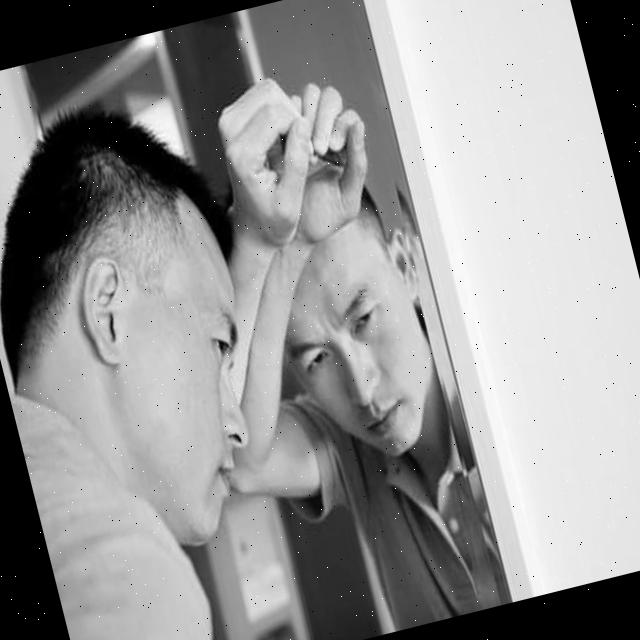Sadness: (264, 222, 441, 476)
